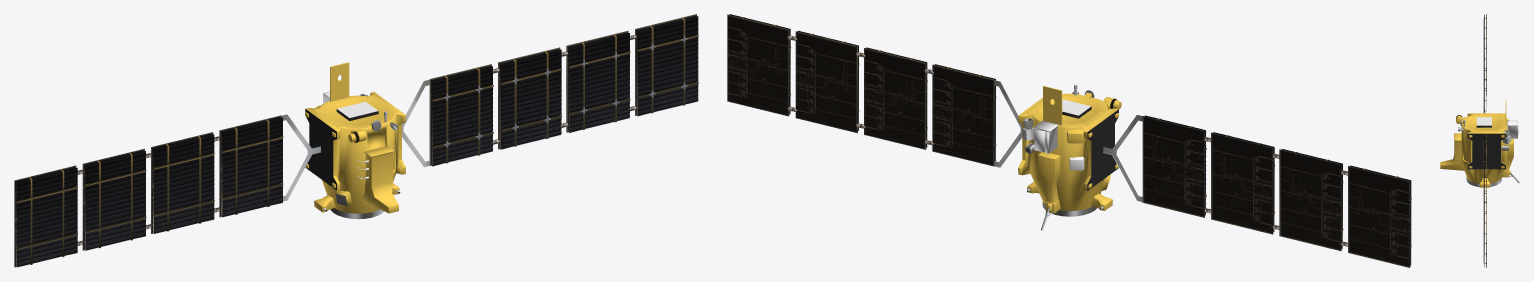
File: deep-space-1.glb
The picture shows the model from 3 angles, left to right: view 1: azimuth 30°, elevation 25°; view 2: azimuth 150°, elevation 25°; view 3: azimuth 270°, elevation 25°; orthographic projection. The views are drawn at different scales.
Parts seen in each view (by area): view 1: shiny_panel, tex_01, BUS_foil_gold, black_krinkle, foil_silver; view 2: tex_01, BUS_foil_gold, black_krinkle, foil_silver, shiny_panel; view 3: BUS_foil_gold, black_krinkle, tex_01, foil_silver, shiny_panel.
Part boxes in pixels (left/top/right/bottom): shiny_panel: left=17, top=17, right=698, bottom=267; tex_01: left=14, top=14, right=698, bottom=267; BUS_foil_gold: left=305, top=62, right=405, bottom=213; black_krinkle: left=305, top=109, right=378, bottom=190; foil_silver: left=323, top=91, right=377, bottom=178; tex_01: left=727, top=14, right=1411, bottom=267; BUS_foil_gold: left=1018, top=86, right=1121, bottom=213; black_krinkle: left=1062, top=106, right=1118, bottom=190; foil_silver: left=1033, top=99, right=1090, bottom=170; shiny_panel: left=730, top=14, right=1410, bottom=265; BUS_foil_gold: left=1440, top=99, right=1513, bottom=187; black_krinkle: left=1467, top=125, right=1505, bottom=169; tex_01: left=1456, top=14, right=1519, bottom=267; foil_silver: left=1476, top=117, right=1518, bottom=138; shiny_panel: left=1484, top=15, right=1484, bottom=266.
Bounding box in the file's own units: 11.8 × 2.22 × 1.96.
Materials: 5 (2 with a texture image).
